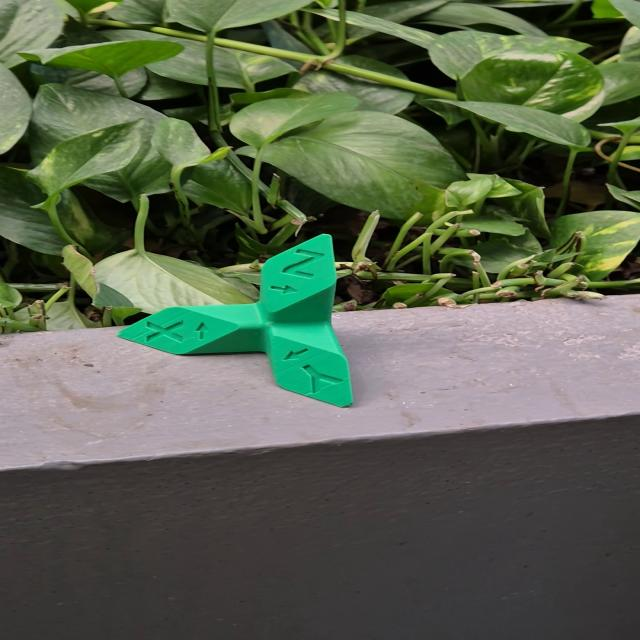objects: (114, 233, 355, 410)
